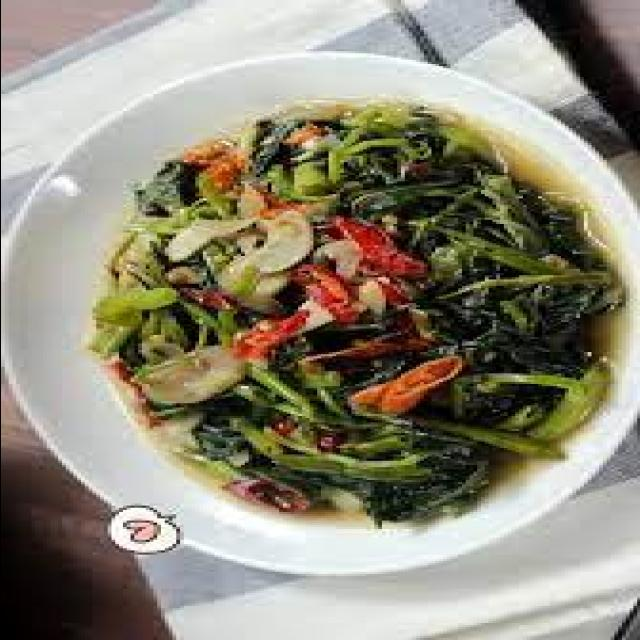tumis kangkung: (123, 103, 600, 519)
